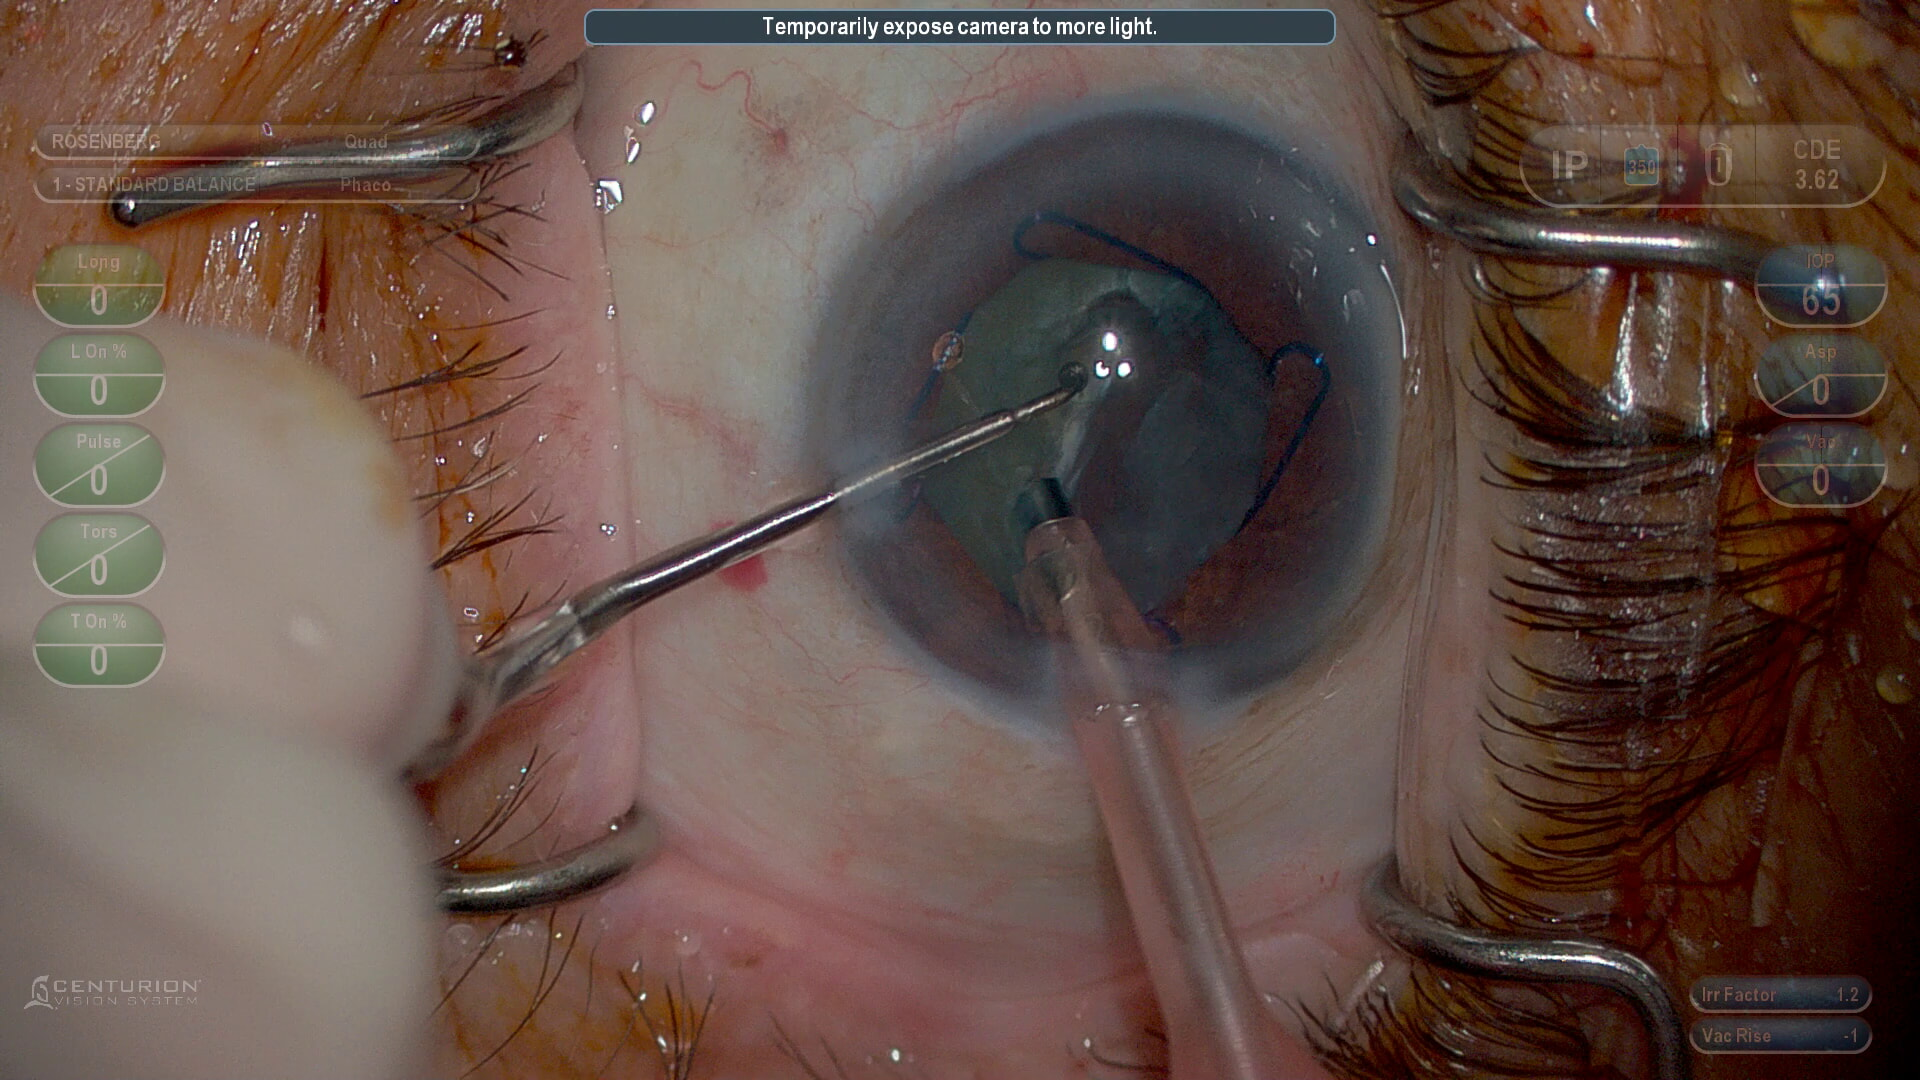iris: (818, 111, 1408, 711)
pupil: (906, 253, 1288, 621)
